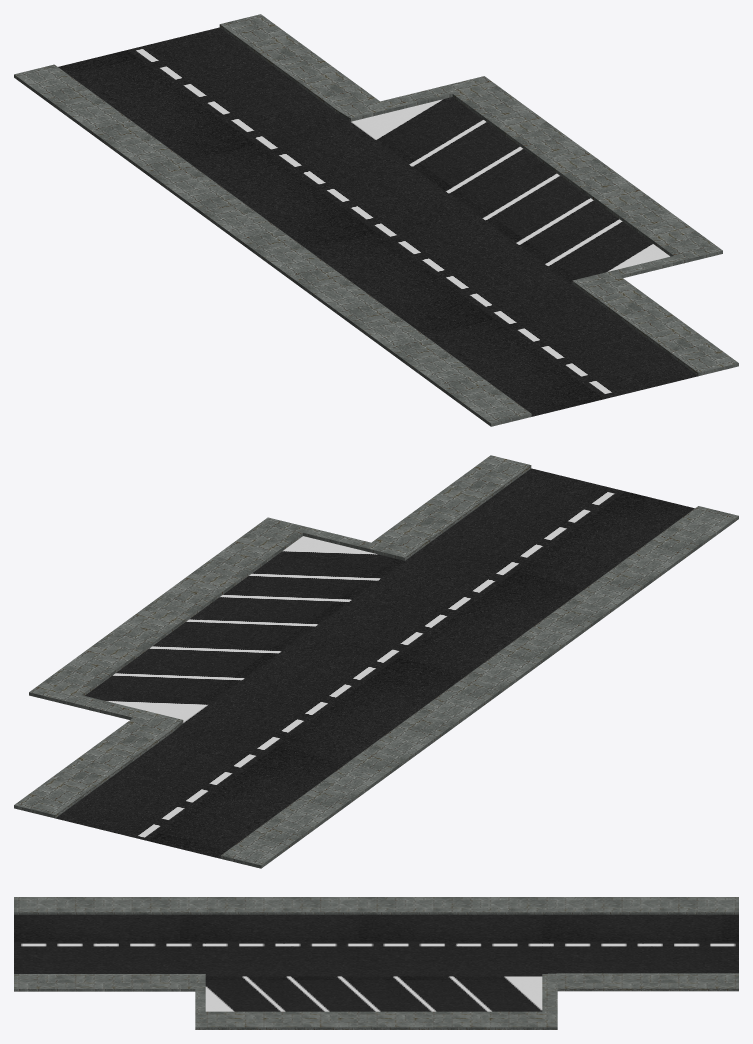
3 views of the same model, one above another, from view 1: azimuth 30°, elevation 25°; view 2: azimuth 150°, elevation 25°; view 3: azimuth 270°, elevation 25° (orthographic). The views are drawn at different scales.
Visible parts, largest first — view 1: anglepark_dashed.001; view 2: anglepark_dashed.001; view 3: anglepark_dashed.001.
Boxes of the visible parts, x1=… form: anglepark_dashed.001: x1=14, y1=14, x2=738, y2=426; anglepark_dashed.001: x1=14, y1=455, x2=738, y2=868; anglepark_dashed.001: x1=14, y1=897, x2=738, y2=1029.
Size of the model in its own units: 1700 by 15 by 4000.
Materials: 1 (1 with a texture image).
